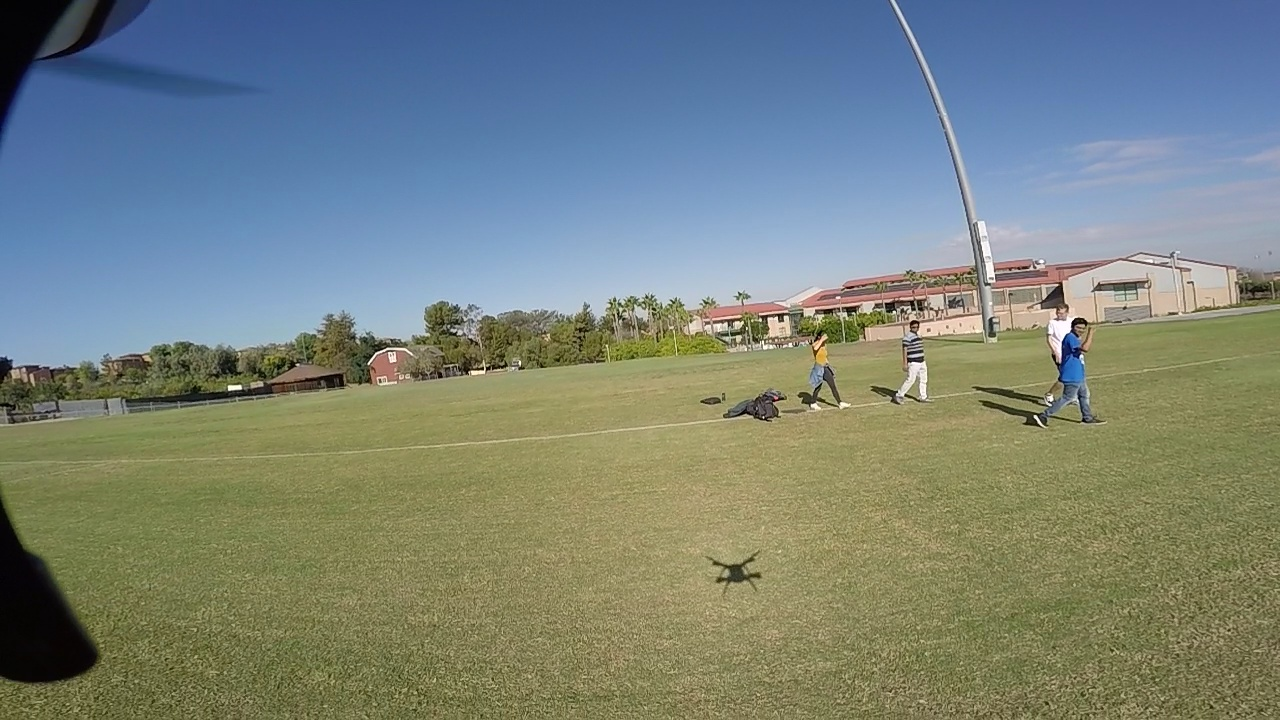person: (1038, 305, 1103, 424), (891, 308, 932, 399), (800, 327, 845, 405)
